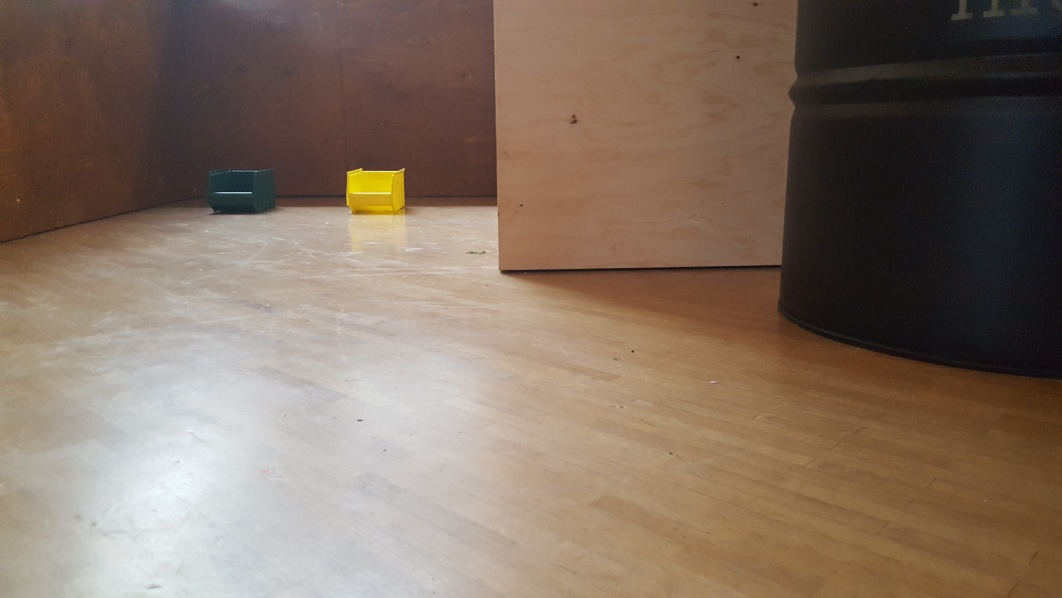tray: (207, 164, 277, 215), (342, 162, 409, 215)
